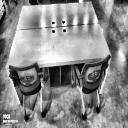chair_fail: (71, 54, 111, 120), (10, 62, 46, 121)
